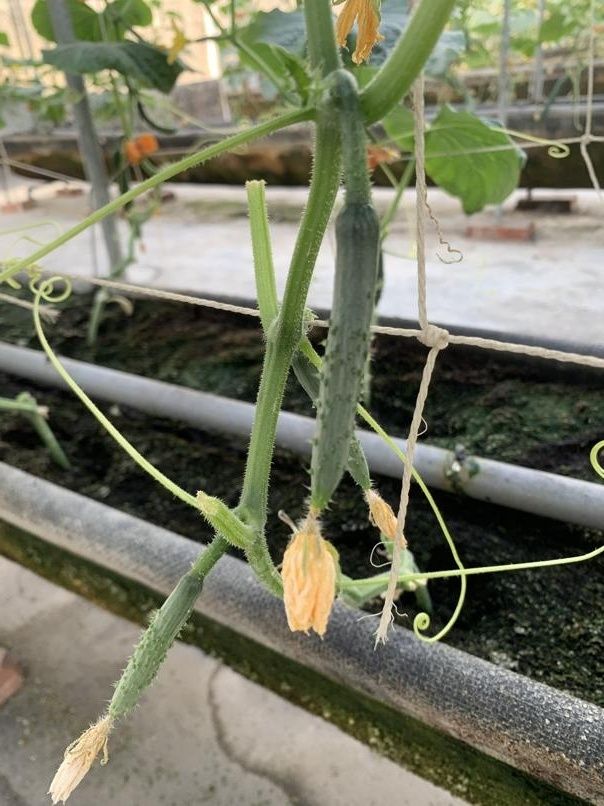bear: (0, 569, 225, 805)
growth: (284, 201, 396, 616)
